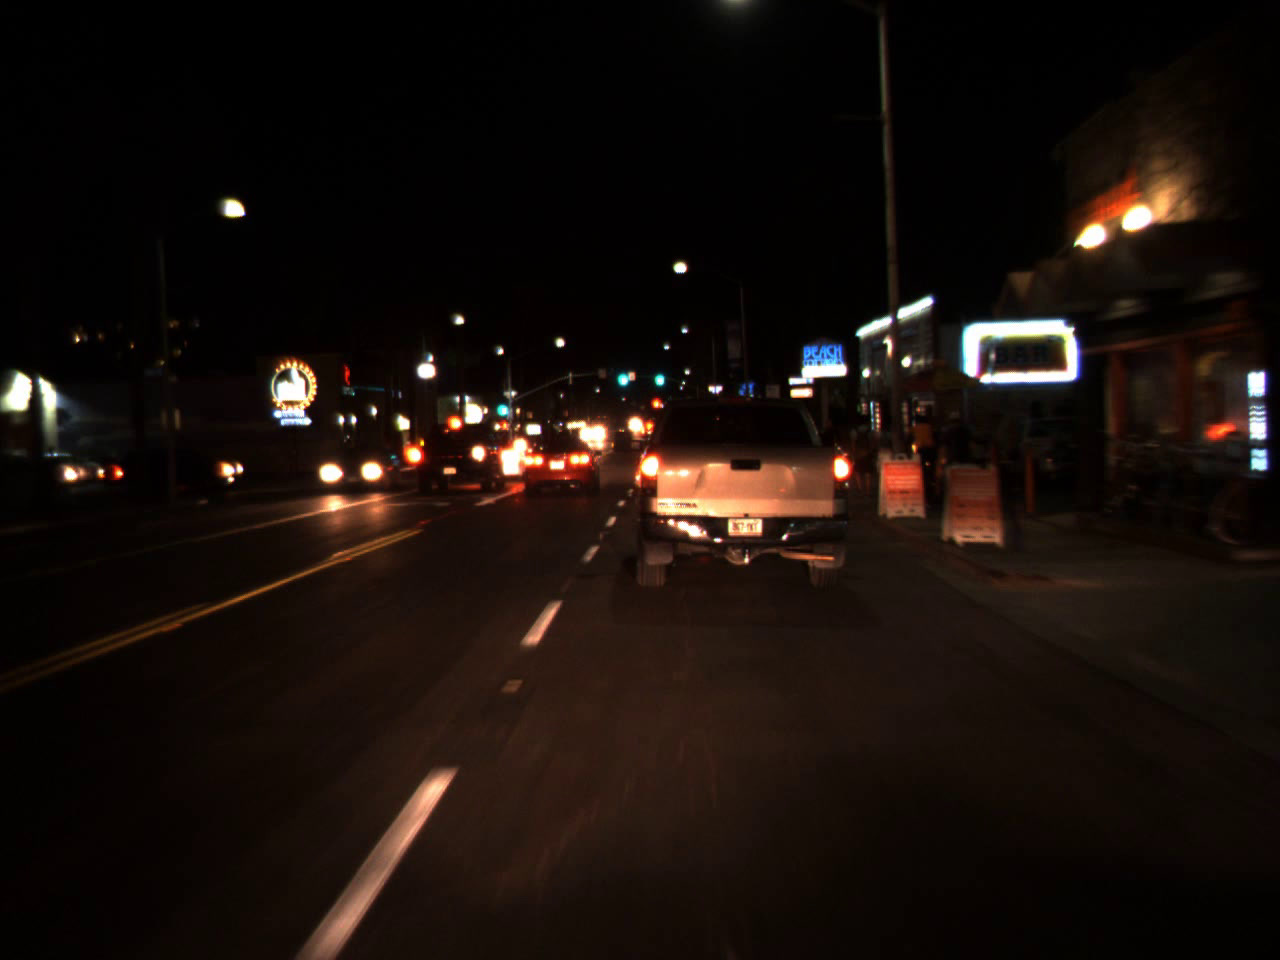go: (612, 360, 633, 390), (493, 388, 511, 421), (652, 362, 666, 389)
